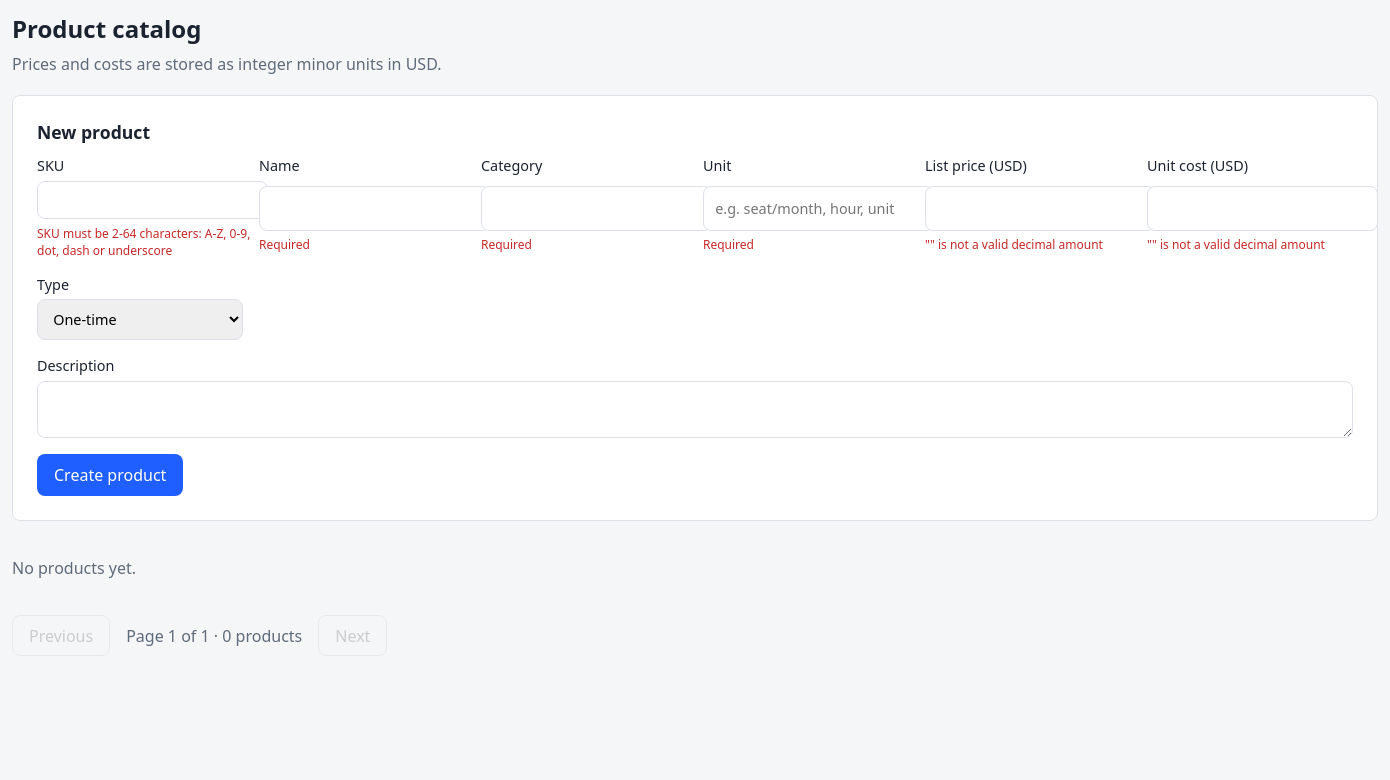
Test: ProductsPage › shows field errors without calling the API and surfaces conflicts
Earlier steps of the test are not shown.
Type "X-1" into the field labelled "SKU" at (153, 200), box [37, 181, 268, 219]
Type "X" into the field labelled "Name" at (375, 208), box [259, 186, 490, 231]
Type "C" into the field labelled "Category" at (597, 208), box [481, 186, 712, 231]
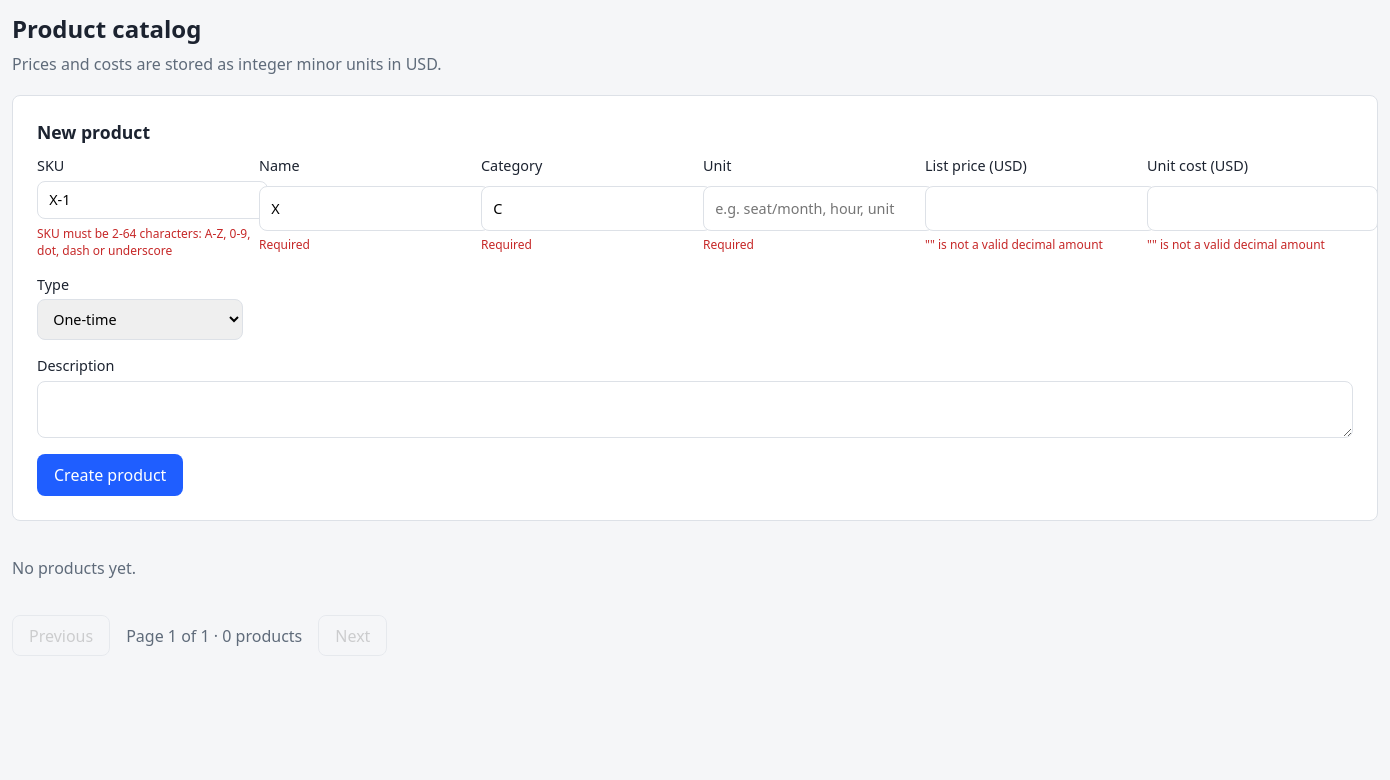
Type "u" into the field labelled "Unit" at (819, 208), box [703, 186, 934, 231]
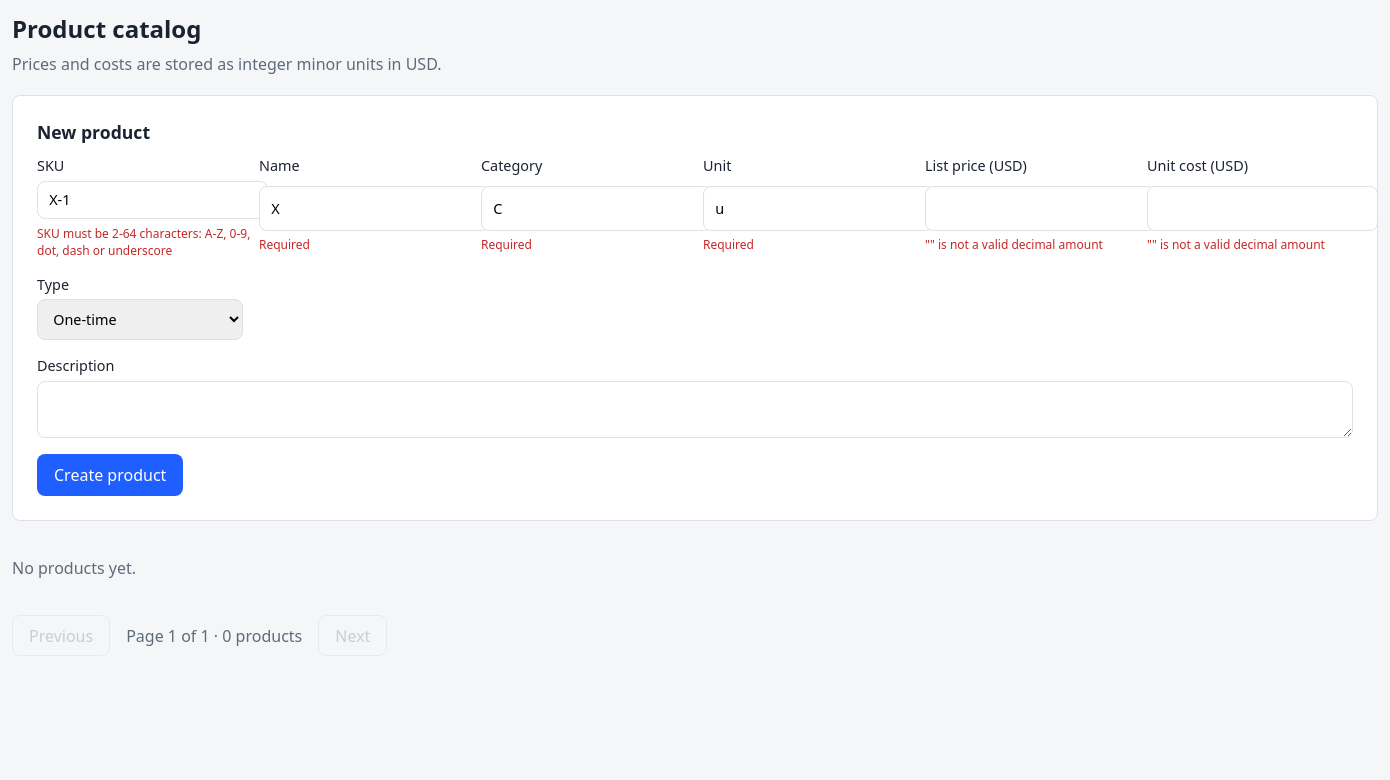
Type "1" into the field labelled "List price (USD)" at (1041, 208), box [925, 186, 1156, 231]
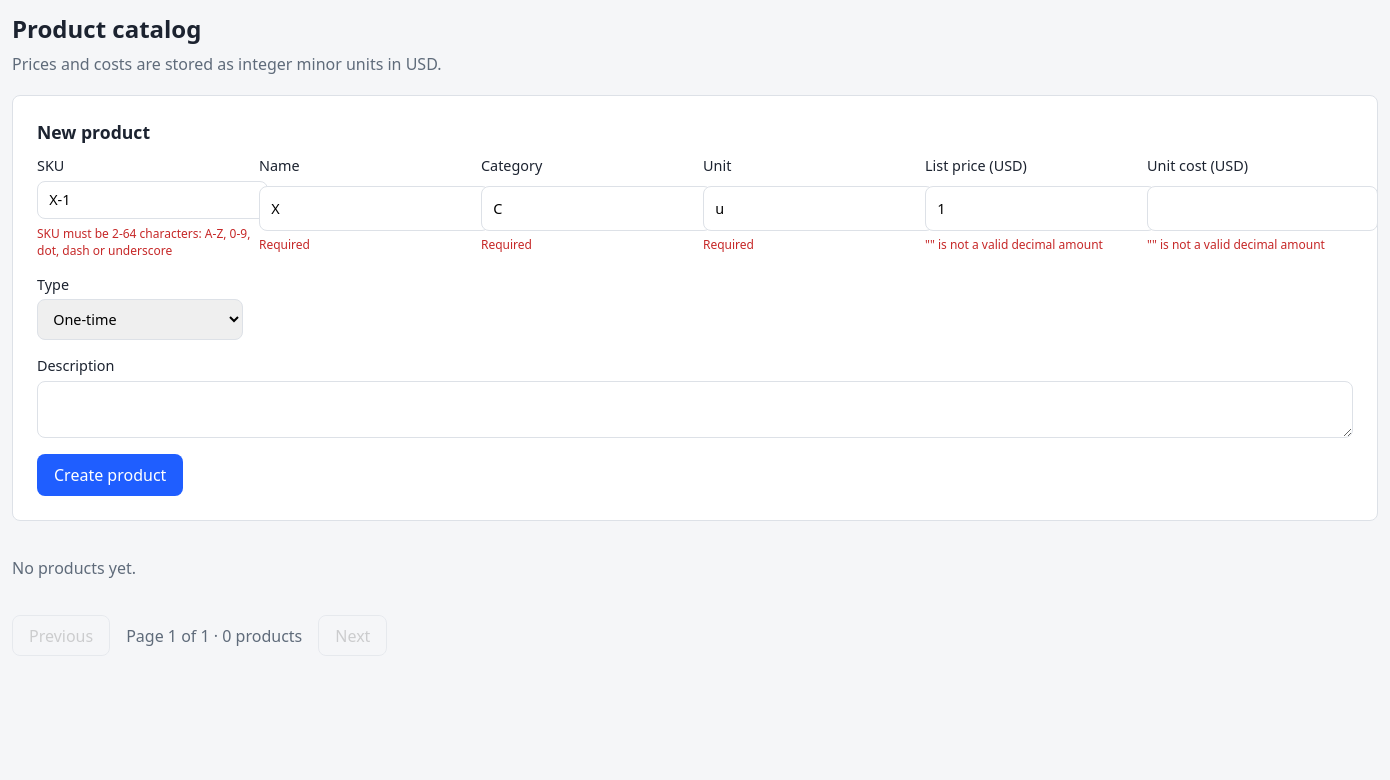
Type "1" into the field labelled "Unit cost (USD)" at (1262, 208), box [1147, 186, 1378, 231]
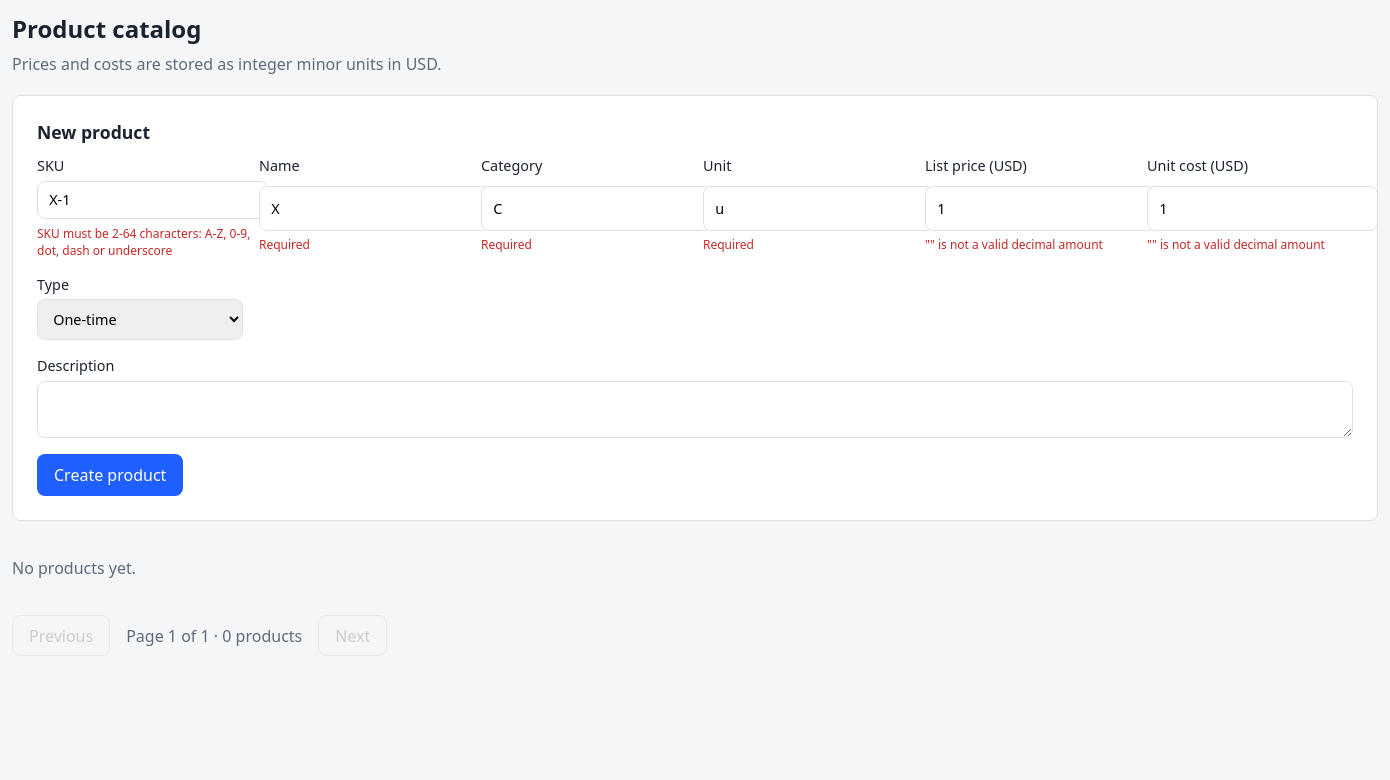
Select "Recurring (monthly)" in the dropdown labelled "Type" at (140, 320), box [37, 299, 243, 340]
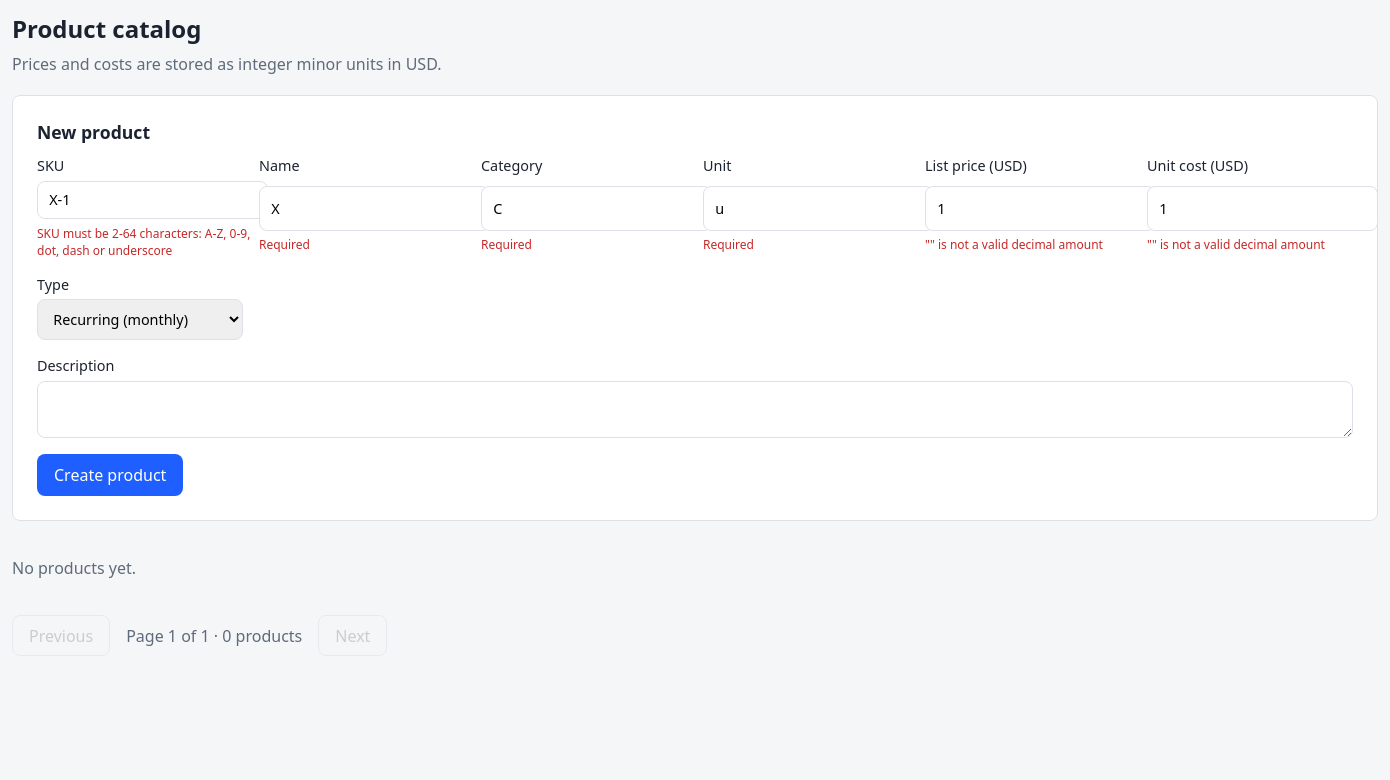
Click the button "Create product" at (110, 475), box [37, 454, 183, 496]
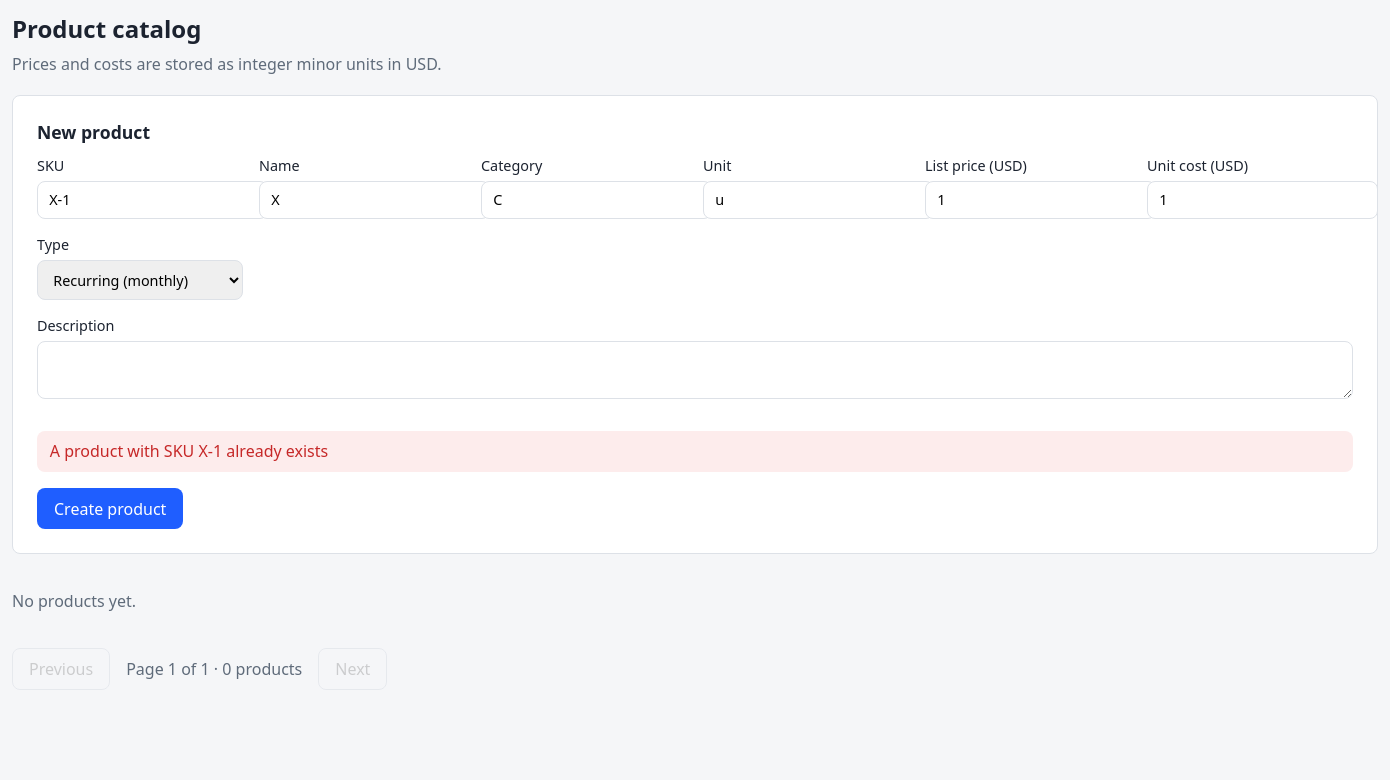
expect the message shows "already exists": met, box [50, 440, 328, 462]
